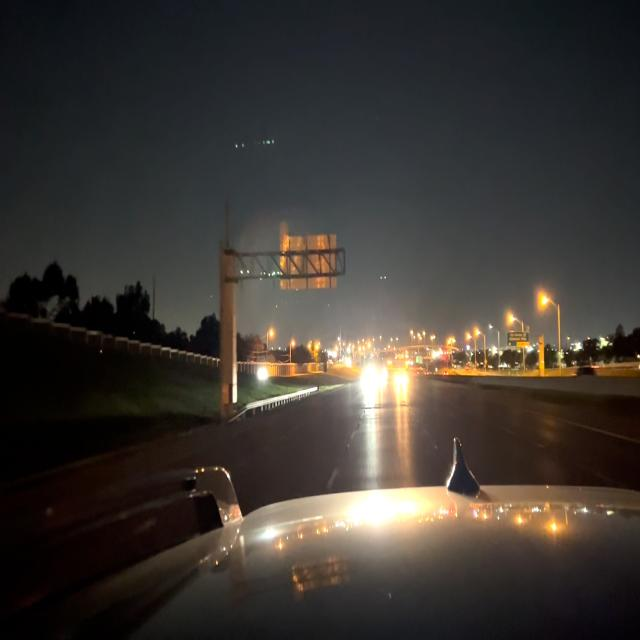back-of-sign: (280, 236, 338, 289), (281, 220, 288, 233)
